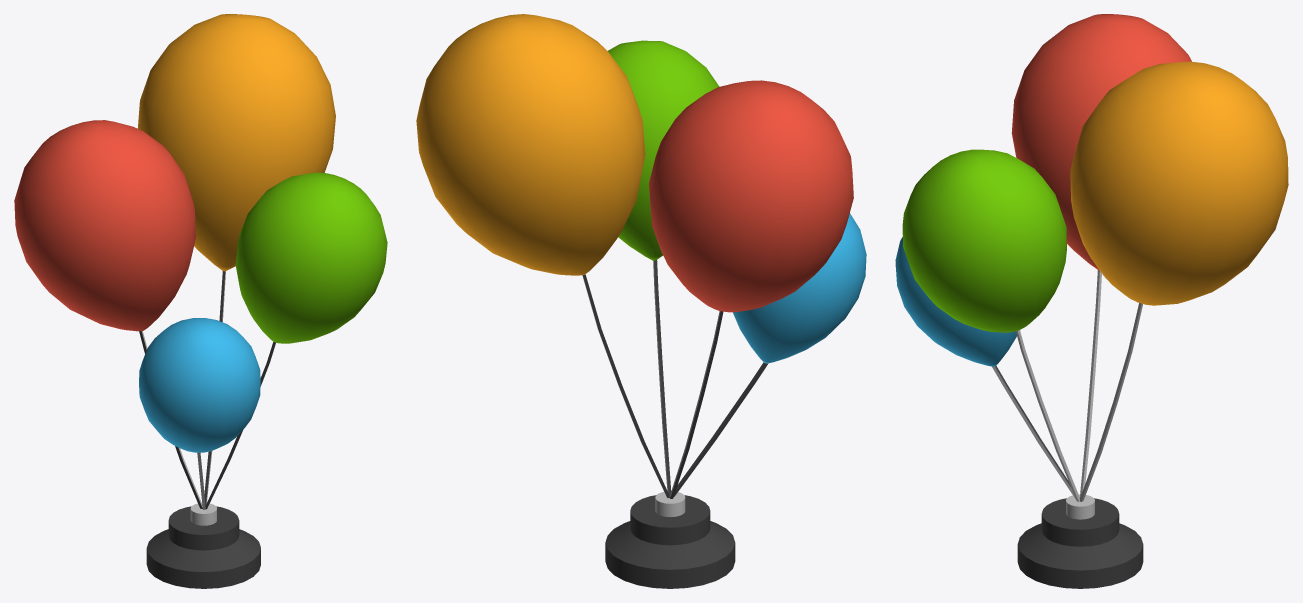
File: balloon.fbx
The picture shows the model from 3 angles, left to right: view 1: azimuth 30°, elevation 25°; view 2: azimuth 150°, elevation 25°; view 3: azimuth 270°, elevation 25°; orthographic projection. The views are drawn at different scales.
Parts seen in each view (by area): view 1: pPlane1; view 2: pPlane1; view 3: pPlane1.
Boxes of the visible parts, x1,y1,x2,y2 form: pPlane1: (14,14,387,588); pPlane1: (416,14,866,588); pPlane1: (895,14,1288,588).
Size of the model in its own units: 118 by 168 by 111.
